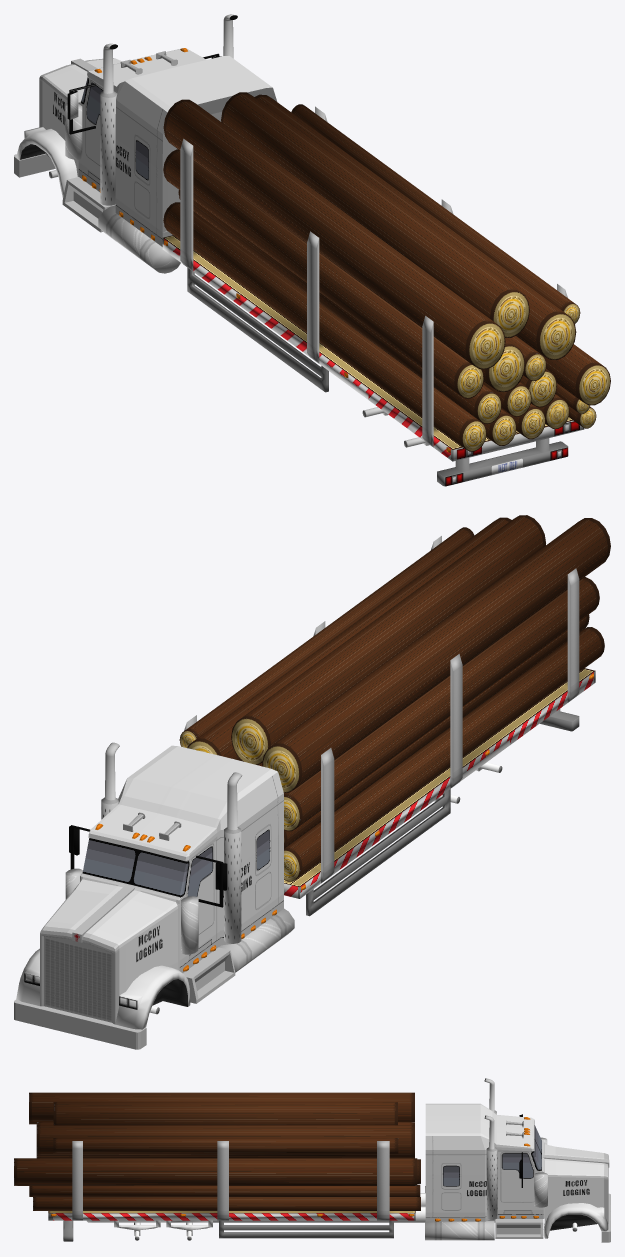
The model's file is 88w900logcarrier1.fbx.
The picture shows the model from 3 angles, top to bottom: view 1: azimuth 30°, elevation 25°; view 2: azimuth 150°, elevation 25°; view 3: azimuth 270°, elevation 25°; orthographic projection. The views are drawn at different scales.
Visible parts, largest first — view 1: 88W900logcarrier1; view 2: 88W900logcarrier1; view 3: 88W900logcarrier1.
Part boxes in pixels (bbox=[...]): 88W900logcarrier1: bbox=[14, 14, 610, 486]; 88W900logcarrier1: bbox=[14, 515, 610, 1049]; 88W900logcarrier1: bbox=[14, 1078, 610, 1242].
Size of the model in its own units: 2.89 by 3.71 by 15.28.
